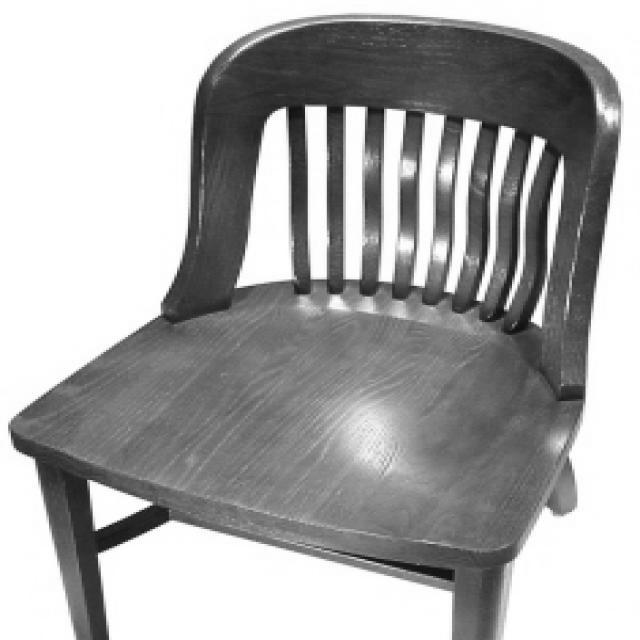chair: (6, 11, 624, 638)
